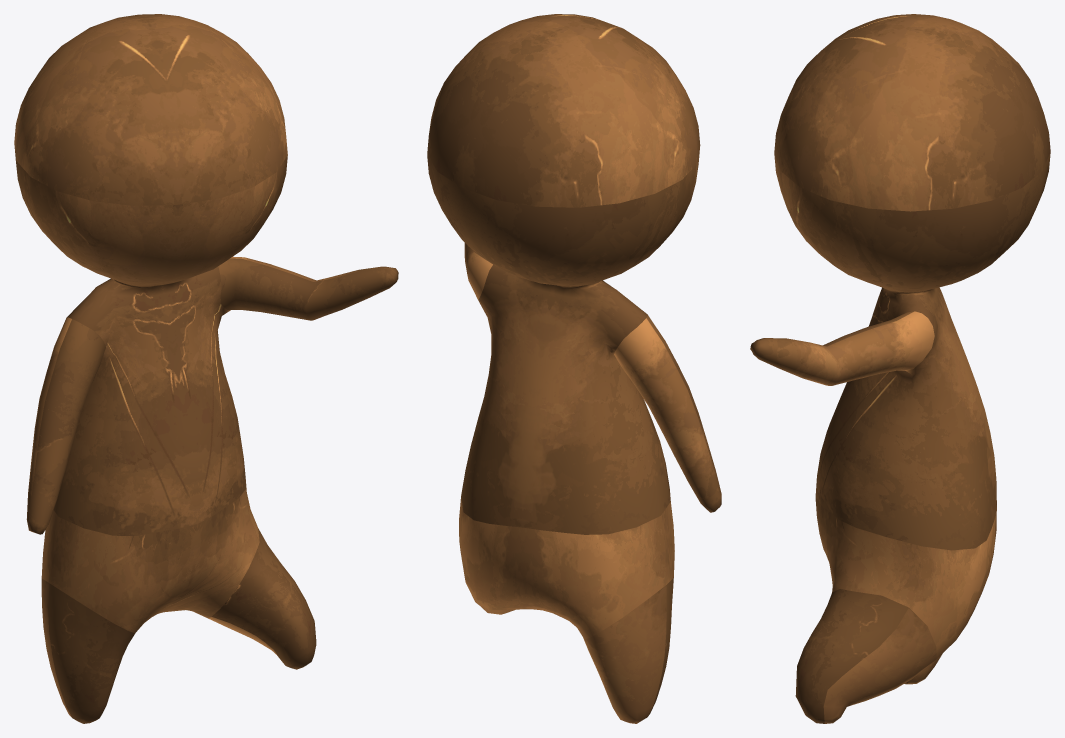
The model's file is personagem10.fbx.
3 views of the same model, side by side, from view 1: azimuth 30°, elevation 25°; view 2: azimuth 150°, elevation 25°; view 3: azimuth 270°, elevation 25° (orthographic).
Visible parts, largest first — view 1: polySurface73; view 2: polySurface73; view 3: polySurface73.
Part boxes in pixels (left/top/right/bottom): polySurface73: left=14, top=14, right=398, bottom=723; polySurface73: left=427, top=14, right=721, bottom=723; polySurface73: left=750, top=14, right=1050, bottom=723.
Bounding box in the file's own units: 29.96 × 61.91 × 24.54.
